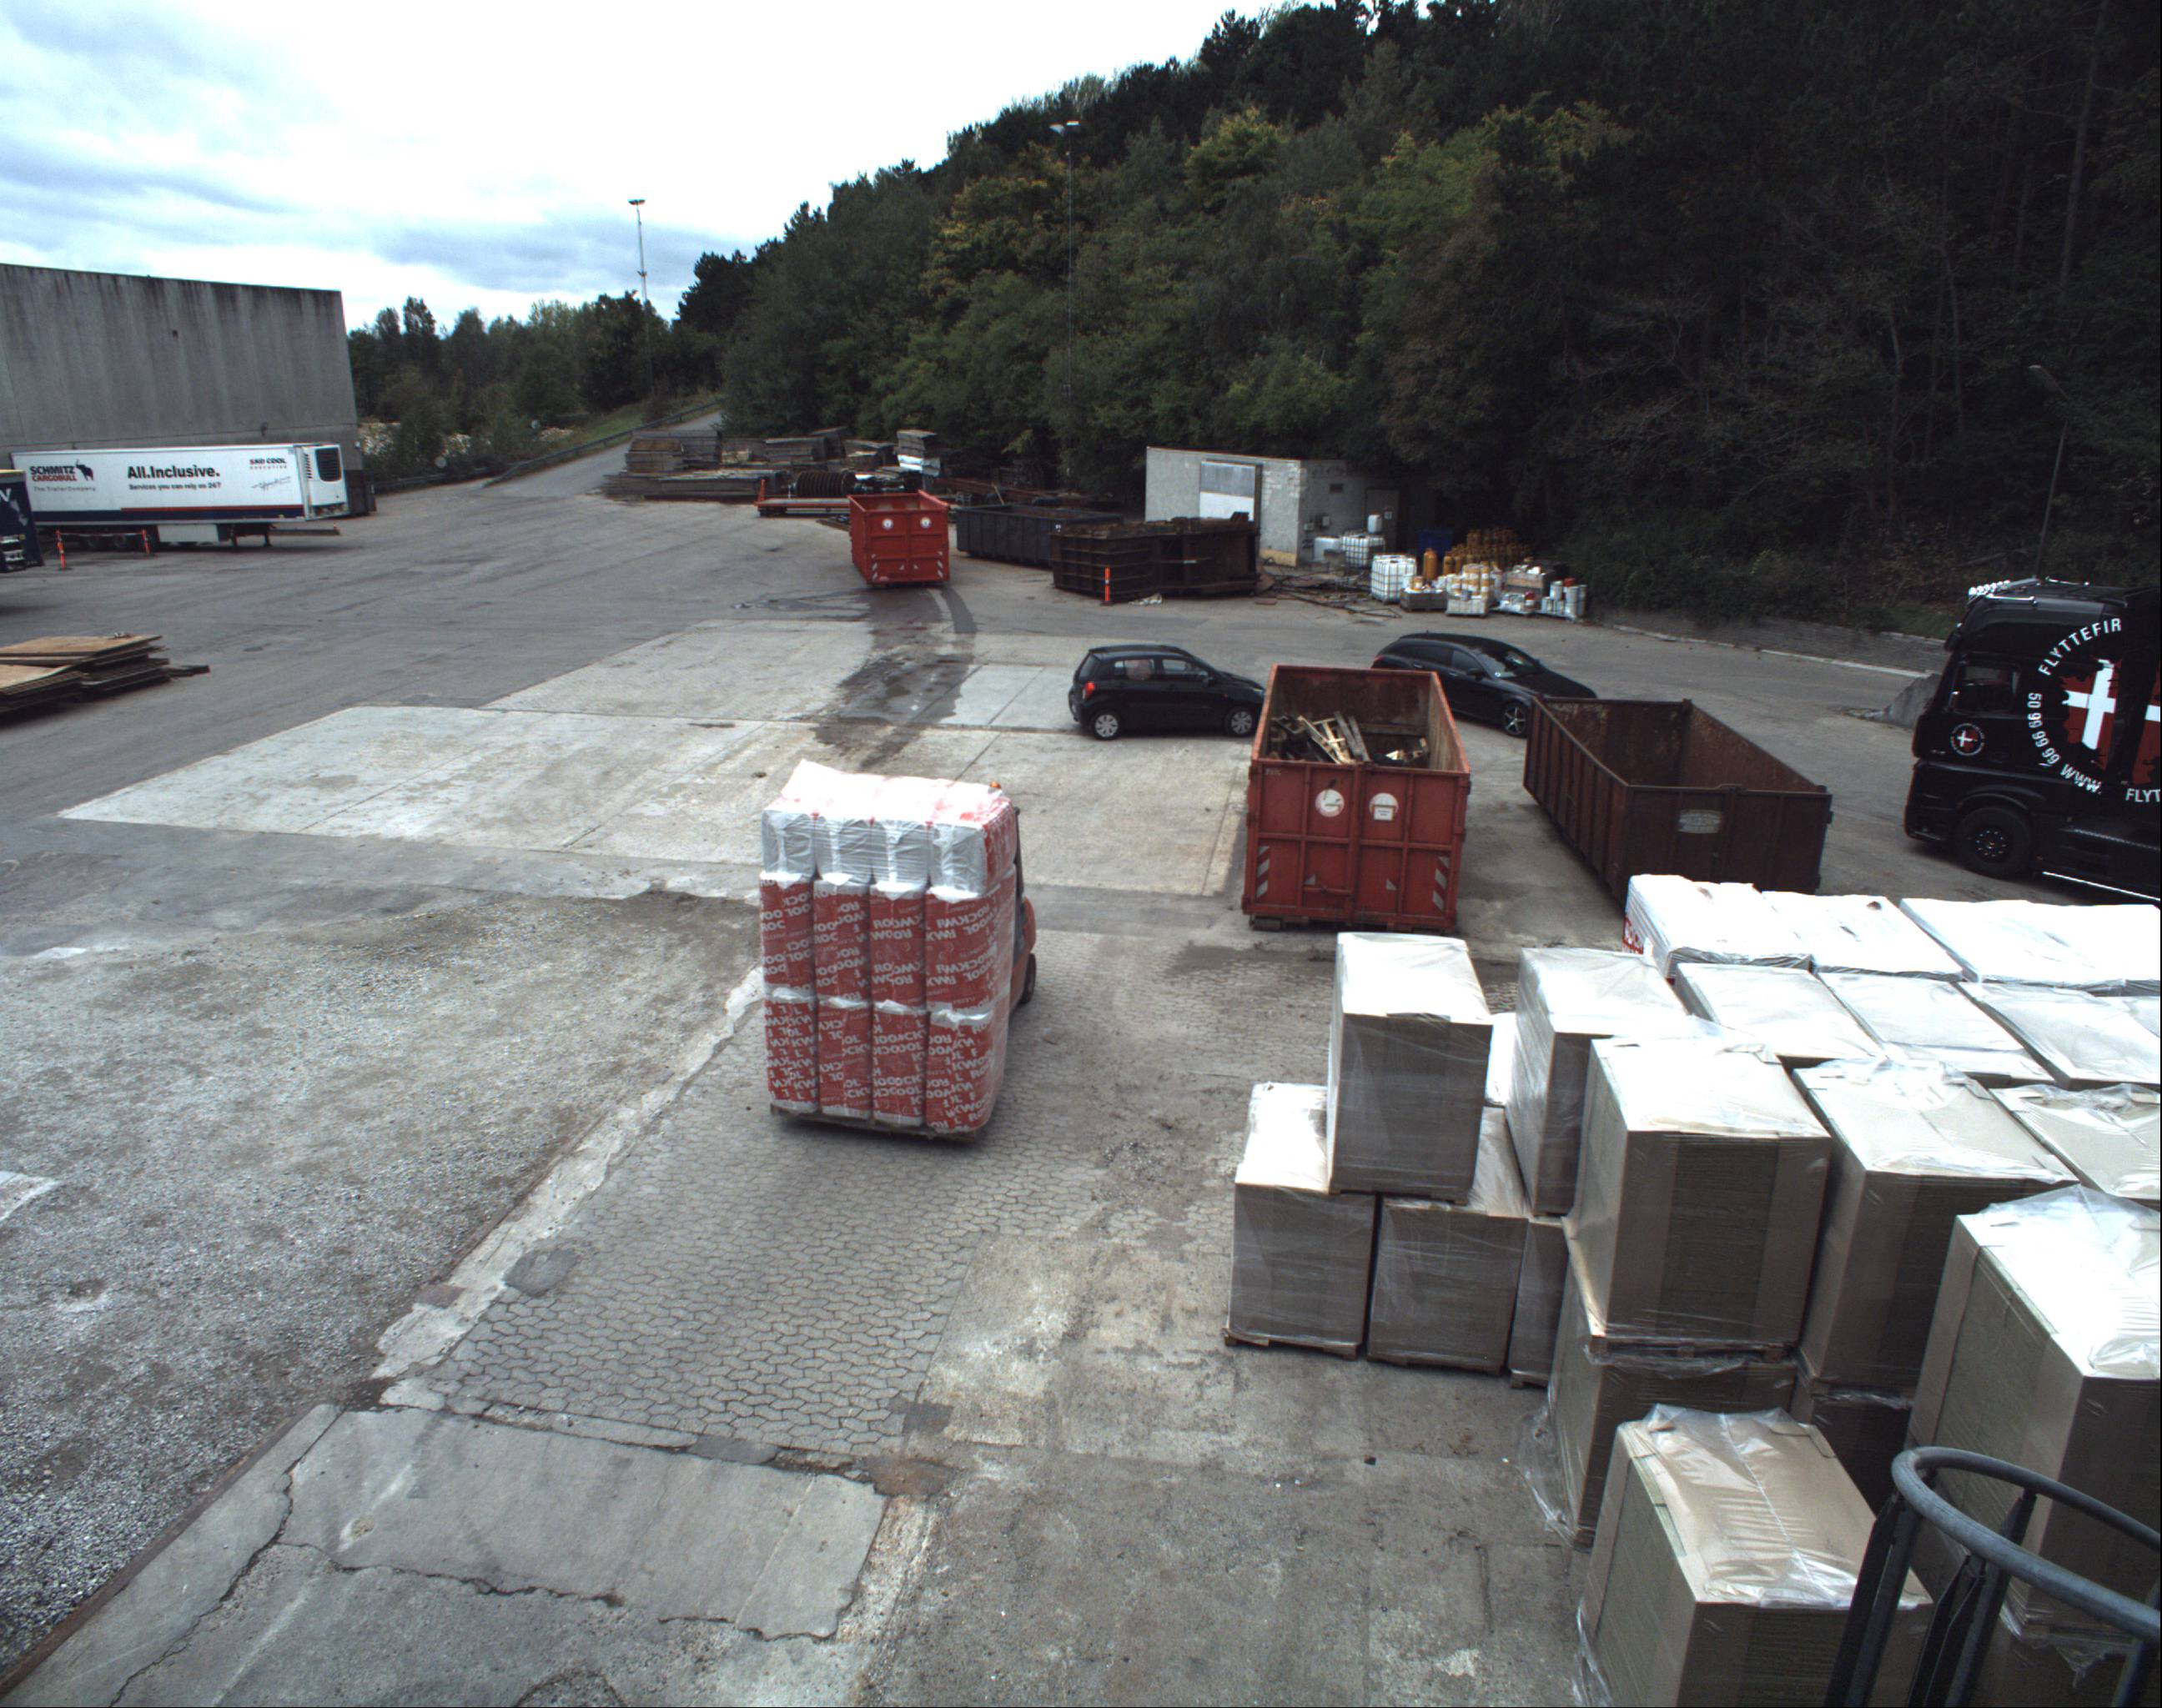rockwool_batts: (774, 757, 1011, 1130)
